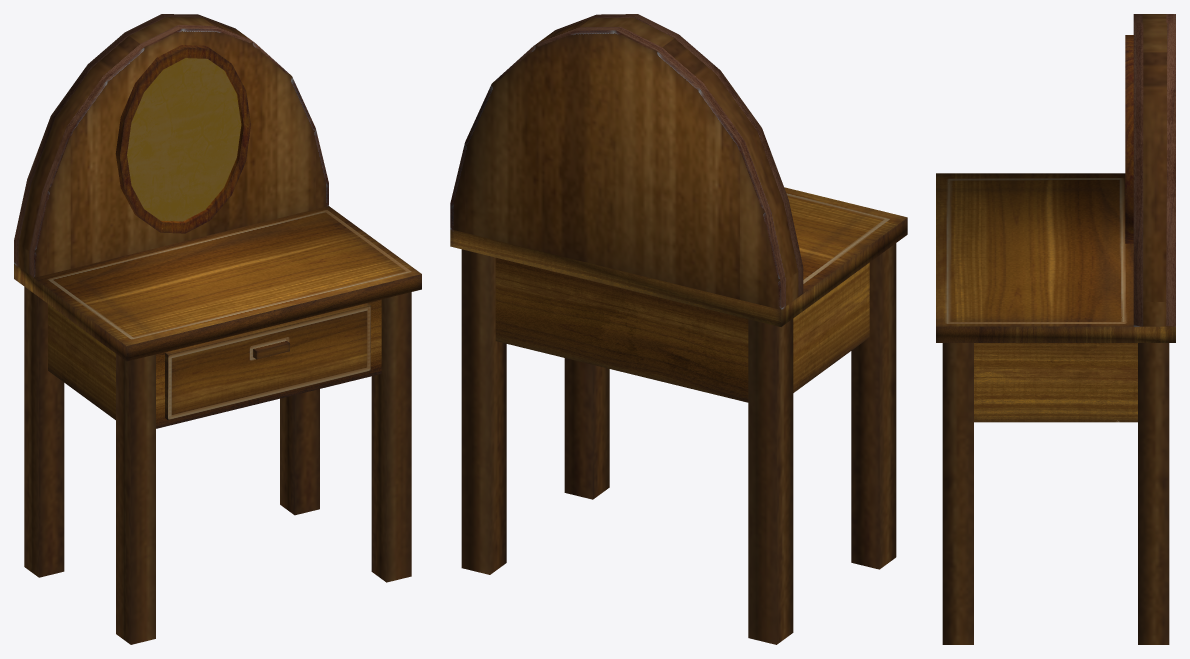
The model's file is Sark_9.FBX.
The picture shows the model from 3 angles, left to right: view 1: azimuth 30°, elevation 25°; view 2: azimuth 150°, elevation 25°; view 3: azimuth 270°, elevation 25°; orthographic projection. The views are drawn at different scales.
Parts seen in each view (by area): view 1: Sark_9; view 2: Sark_9; view 3: Sark_9.
Boxes of the visible parts, <box> form: Sark_9: <box>14,14,421,644</box>; Sark_9: <box>450,14,907,644</box>; Sark_9: <box>936,14,1175,644</box>.
Bounding box in the file's own units: 34.86 × 58.28 × 23.09.
